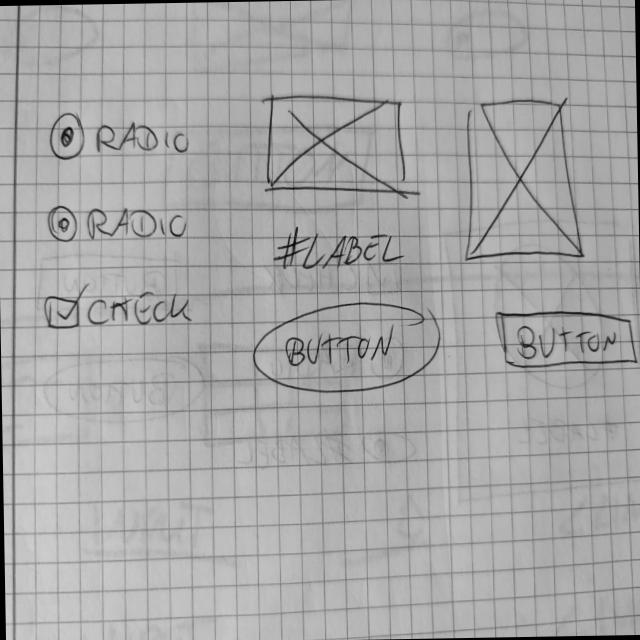checkbox: (46, 287, 197, 333)
image: (464, 96, 588, 264), (264, 89, 413, 199)
label: (273, 223, 407, 274)
radio: (49, 108, 192, 164), (47, 201, 191, 246)
